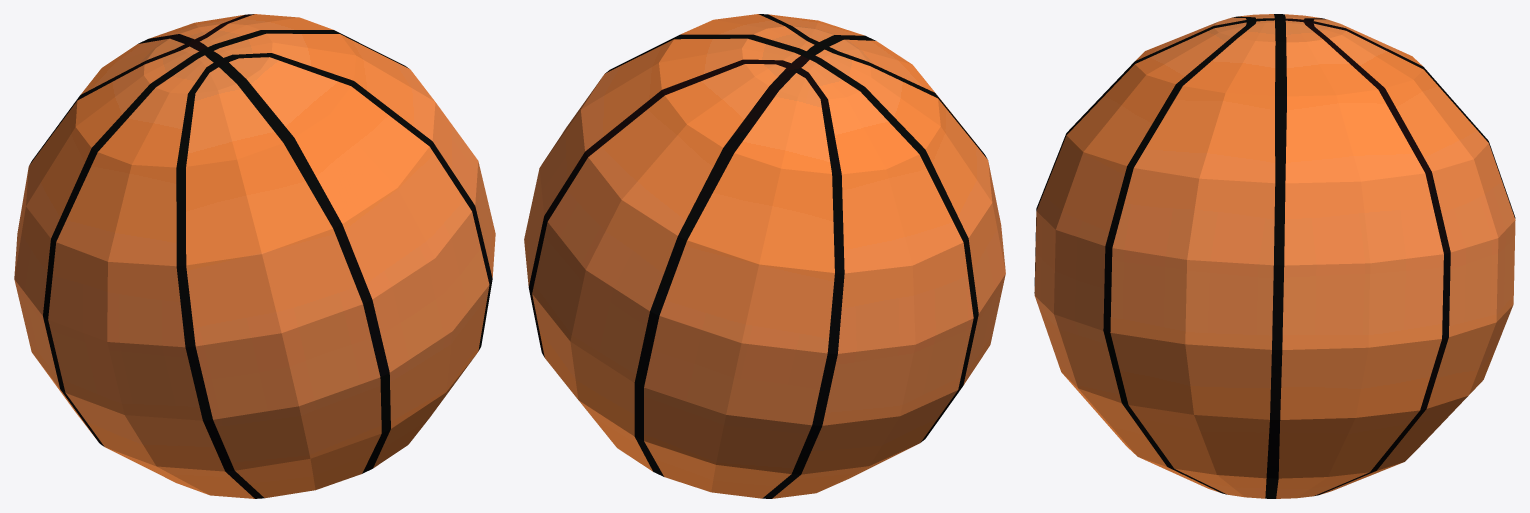
Rendered from basketball.glb.
The picture shows the model from 3 angles, left to right: view 1: azimuth 30°, elevation 25°; view 2: azimuth 150°, elevation 25°; view 3: azimuth 270°, elevation 25°; orthographic projection.
Parts seen in each view (by area): view 1: Sphere; view 2: Sphere; view 3: Sphere.
Boxes of the visible parts, bbox=[...] form: Sphere: bbox=[14, 14, 495, 498]; Sphere: bbox=[524, 14, 1005, 498]; Sphere: bbox=[1034, 14, 1515, 498].
Size of the model in its own units: 1.11 by 1.1 by 1.1.
Materials: 1 (1 with a texture image).
